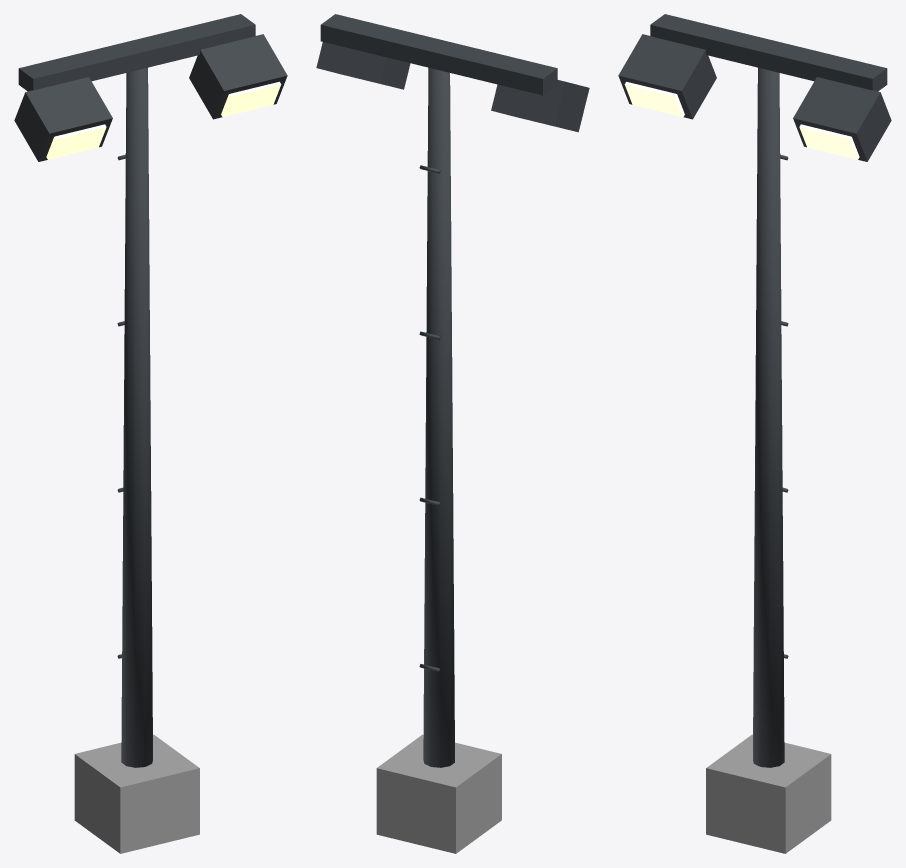
The model's file is dock_light.glb.
3 views of the same model, side by side, from view 1: azimuth 30°, elevation 25°; view 2: azimuth 150°, elevation 25°; view 3: azimuth 330°, elevation 25° (orthographic).
Parts seen in each view (by area): view 1: dock_light; view 2: dock_light; view 3: dock_light.
Boxes of the visible parts, left/top/right/bottom form: dock_light: left=14, top=14, right=287, bottom=853; dock_light: left=316, top=14, right=589, bottom=853; dock_light: left=618, top=14, right=891, bottom=853.
Size of the model in its own units: 1.5 by 4.7 by 0.5919.
